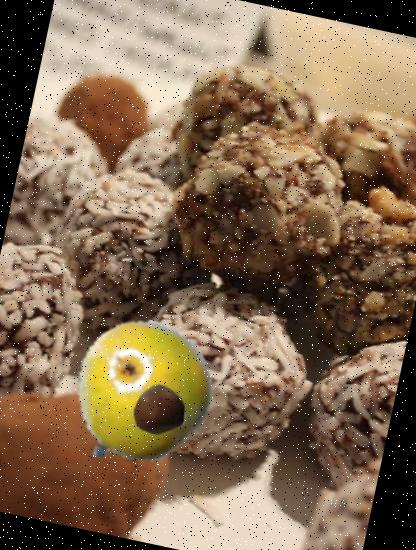Maracuja: (58, 308, 232, 481)
Nut: (128, 378, 190, 440)
